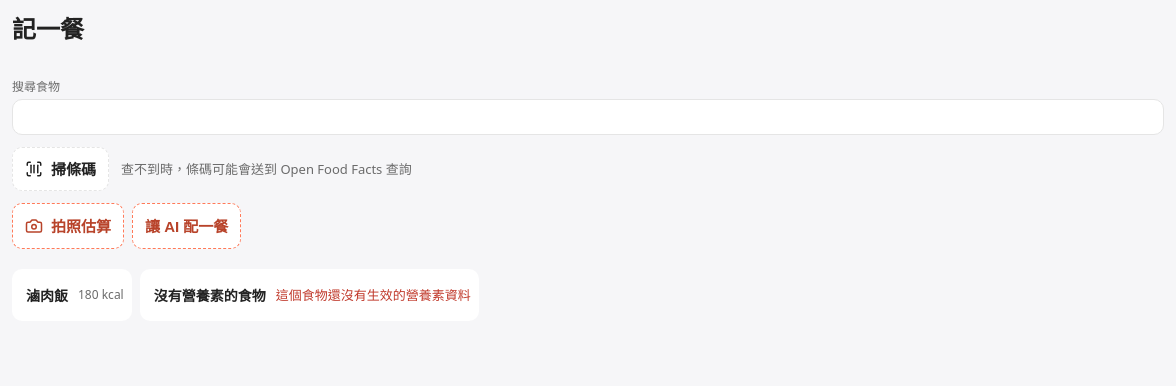
記一餐 › 搜尋框輸入之後（等過 debounce）出現搜尋結果，而且常吃/最近吃還在
The image size is (1176, 386).
Expected: the button "滷肉飯" is shown, [20,273,74,317]
In the field labelled "搜尋食物": (588, 117) [12,99,1164,135], type "白飯"
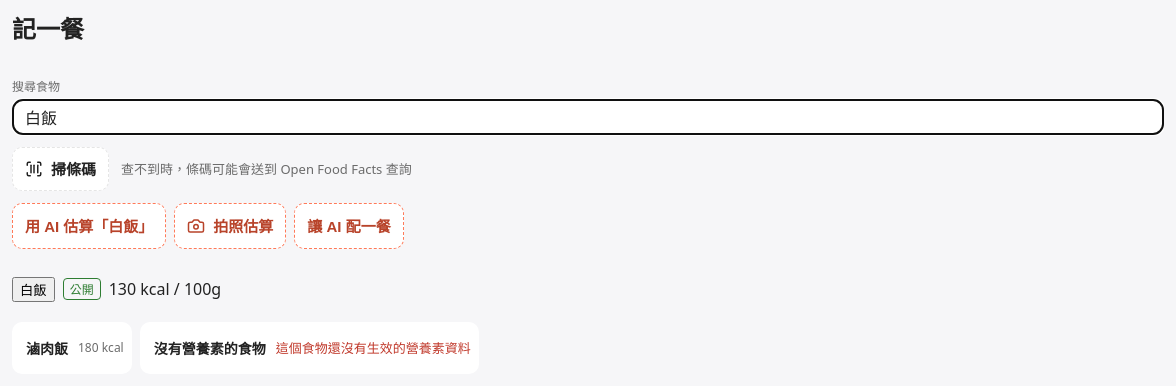
Expected: the button "滷肉飯" is shown, [20,326,74,370]
Expected: the button "白飯" is shown, [12,277,55,302]
